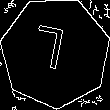L_S: (36, 25, 75, 80)
